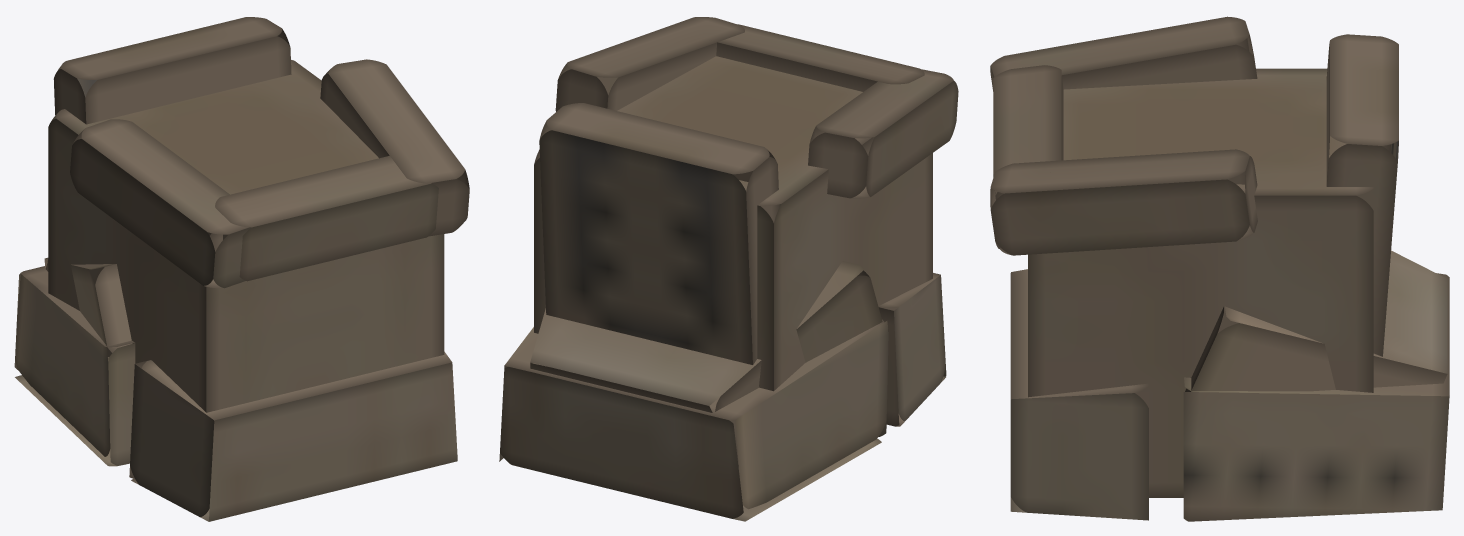
Rendered from us_mobilized_b_r.obj.
3 views of the same model, side by side, from view 1: azimuth 30°, elevation 25°; view 2: azimuth 150°, elevation 25°; view 3: azimuth 270°, elevation 25° (orthographic). The views are drawn at different scales.
Visible parts, largest first — view 1: cube; view 2: cube; view 3: cube.
Boxes of the visible parts, left/top/right/bottom form: cube: left=14, top=17, right=469, bottom=521; cube: left=499, top=17, right=958, bottom=521; cube: left=990, top=16, right=1449, bottom=521.
Size of the model in its own units: 0.3519 by 0.3565 by 0.4171.
